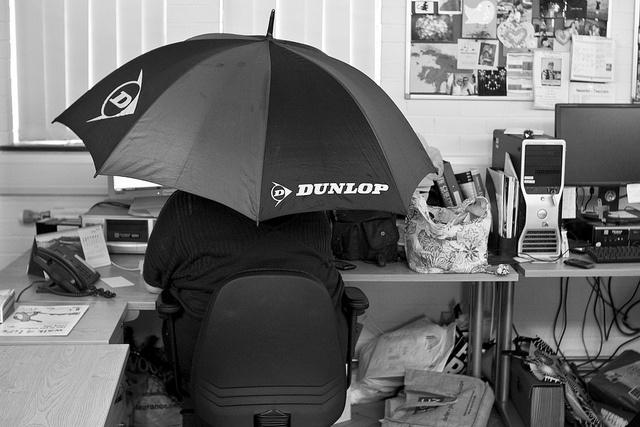AIO PC-Monitor-TV: (551, 100, 639, 189)
